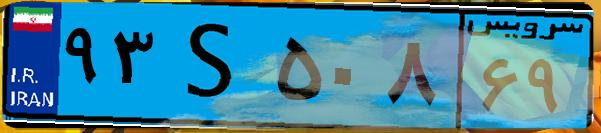0: (330, 28, 385, 110)
3: (110, 28, 158, 98)
5: (270, 28, 330, 110)
6: (475, 38, 525, 113)
8: (385, 28, 445, 110)
9: (57, 26, 110, 100), (525, 38, 570, 115)
S: (158, 12, 270, 120)
